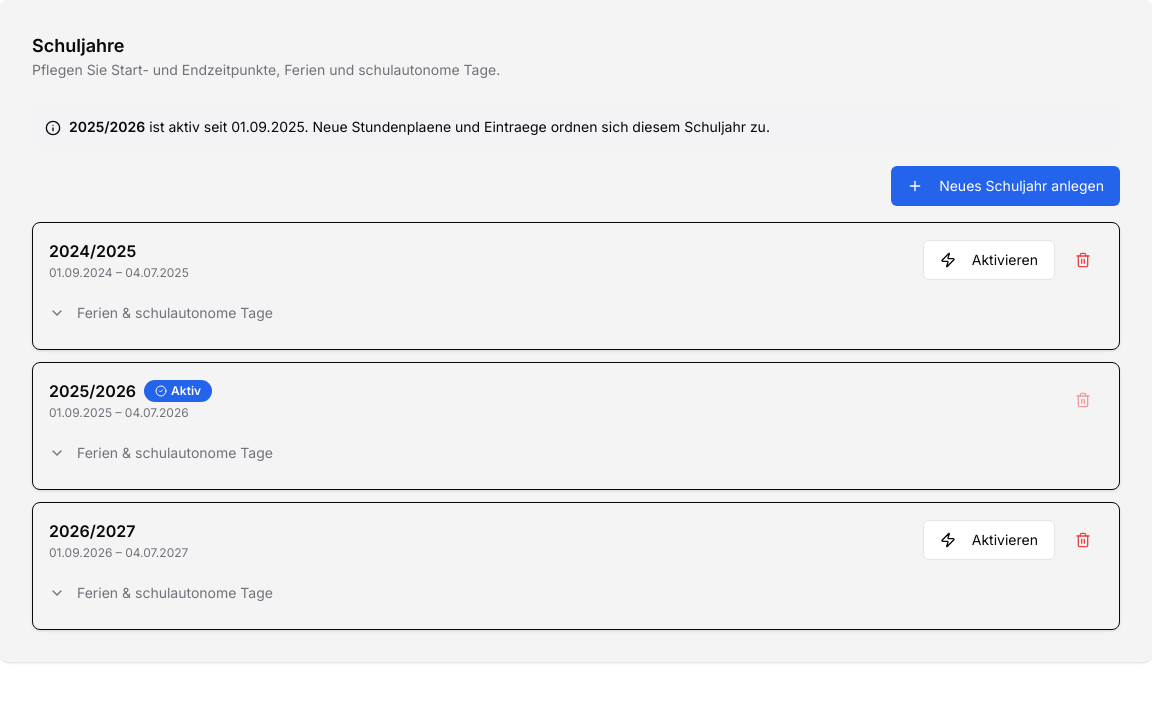
it: SchoolYearsTab (Plan 10-05 Task 1) › clicking "+ Neues Schuljahr anlegen" opens CreateSchoolYearDialog
The width and height of the screenshot is (1152, 720).
Click the button "Neues Schuljahr anlegen" at (1006, 186), box [891,166,1120,206]
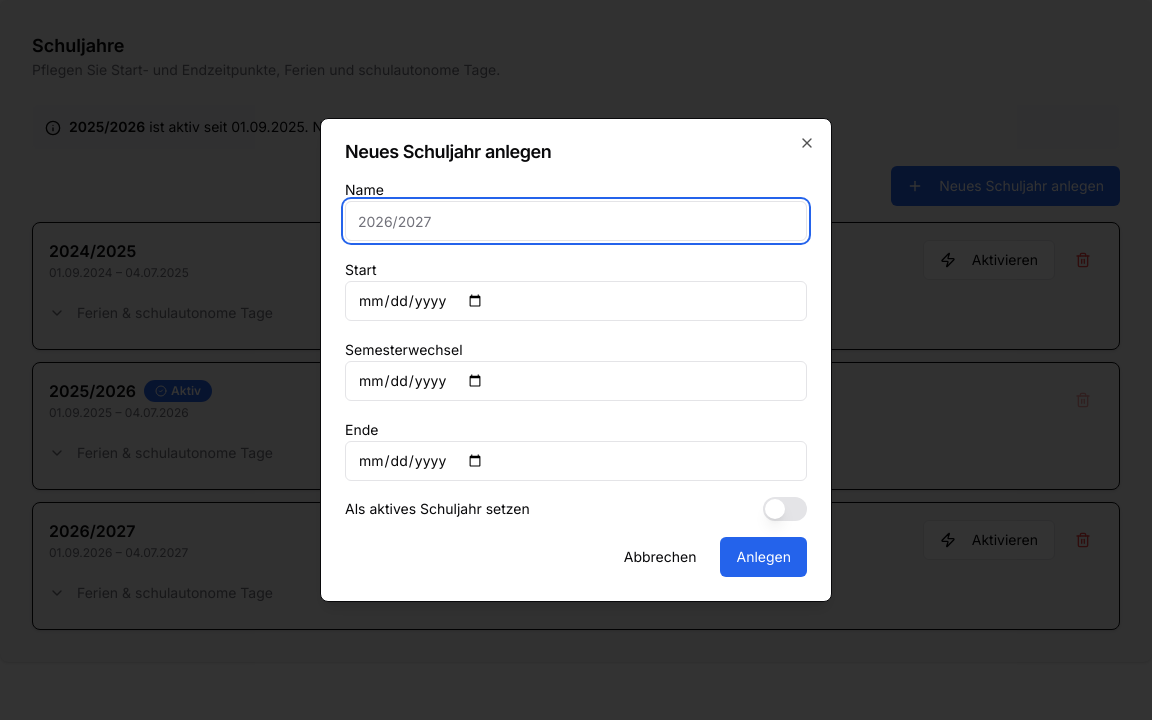
Expected: the field labelled "Name" is shown, [345,201,807,241]
